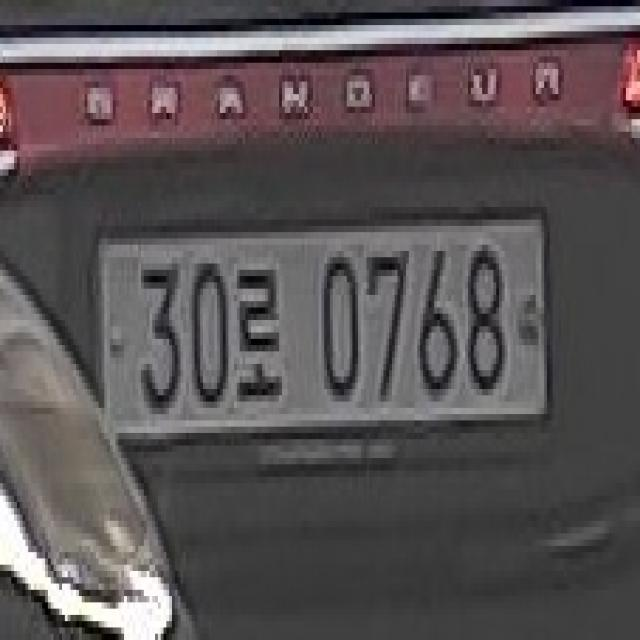0: (183, 257, 231, 414), (318, 251, 361, 402)
3: (138, 251, 183, 420)
6: (414, 238, 457, 396)
7: (364, 238, 409, 408)
8: (465, 238, 508, 396)
license_plate: (93, 201, 555, 445)
lo: (234, 263, 282, 408)
